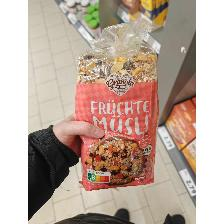Cerealien: (77, 16, 161, 192)
